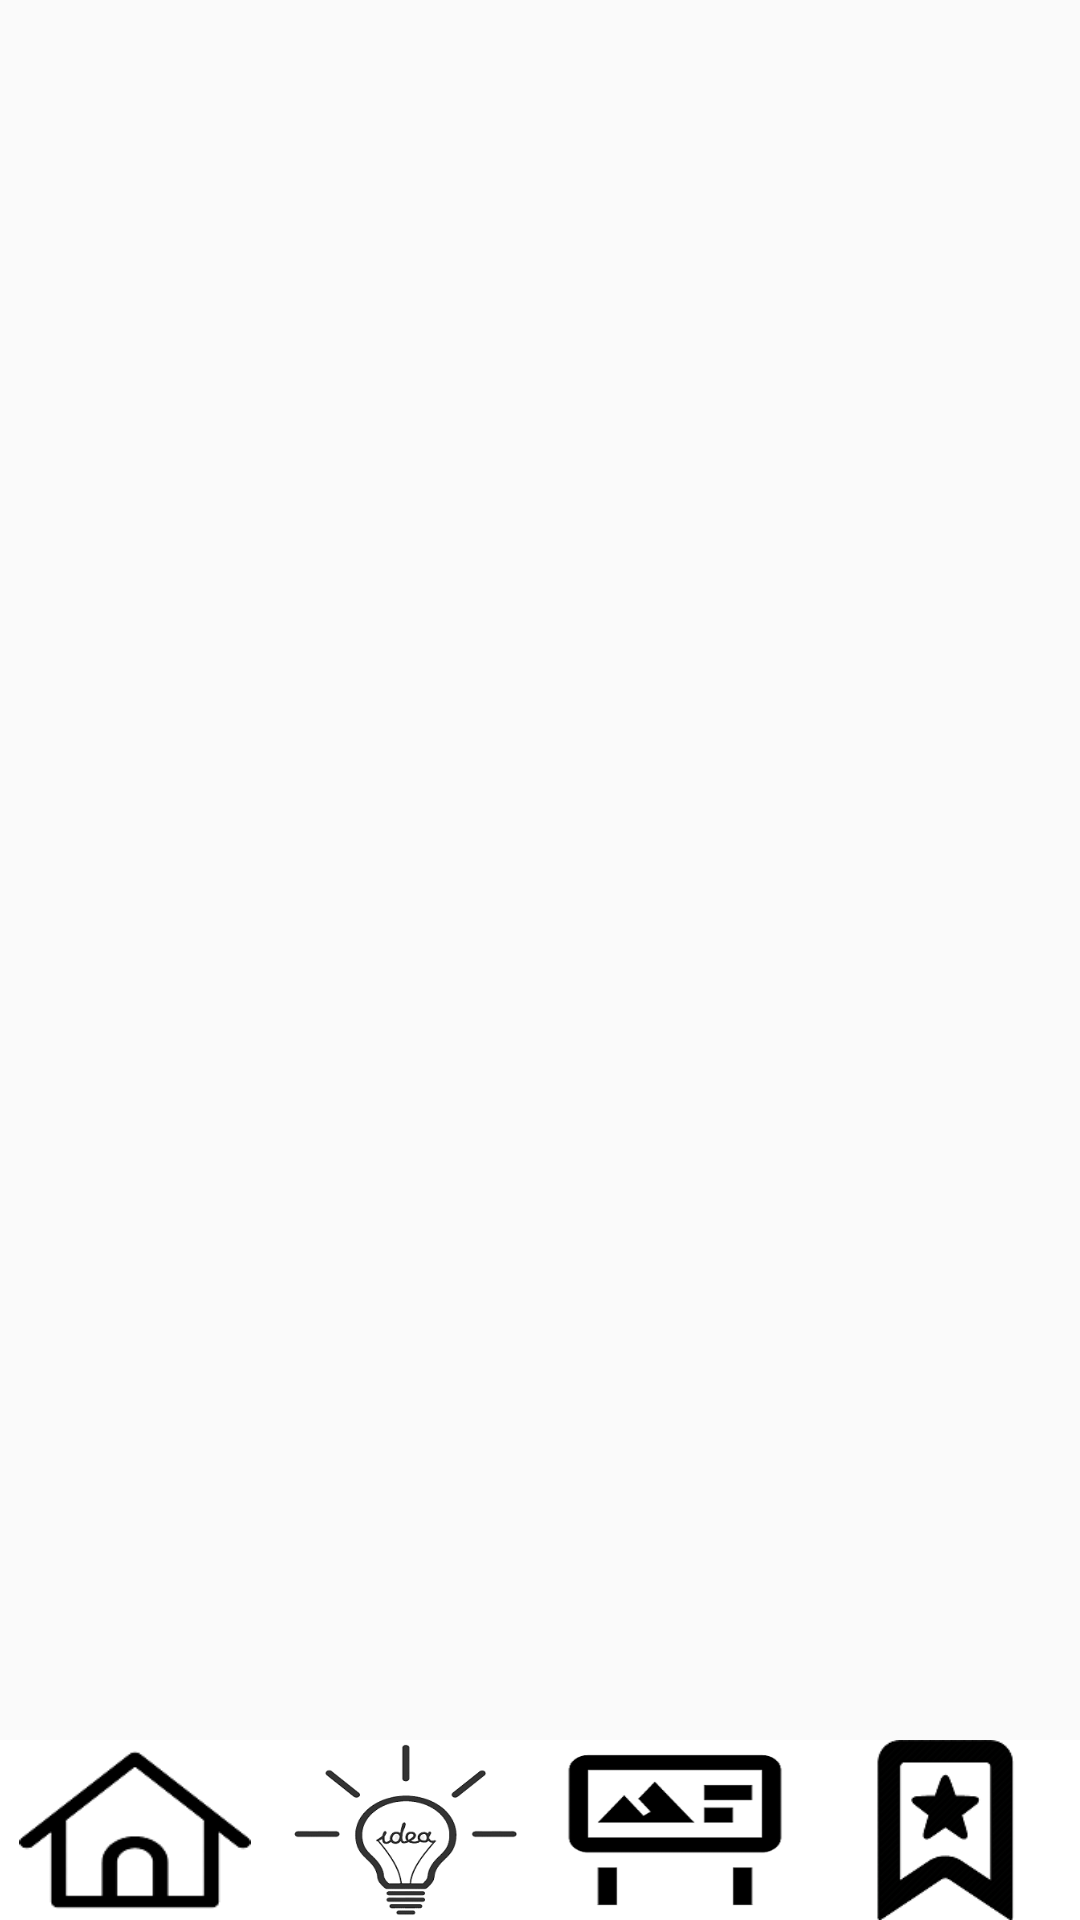

Where to tap for icons on this 1080 x 1920 app screen, as (x=x, y=y):
bottom bookmark: (x=945, y=1830)
bottom goodtip: (x=405, y=1830)
bottom hometap: (x=135, y=1830)
